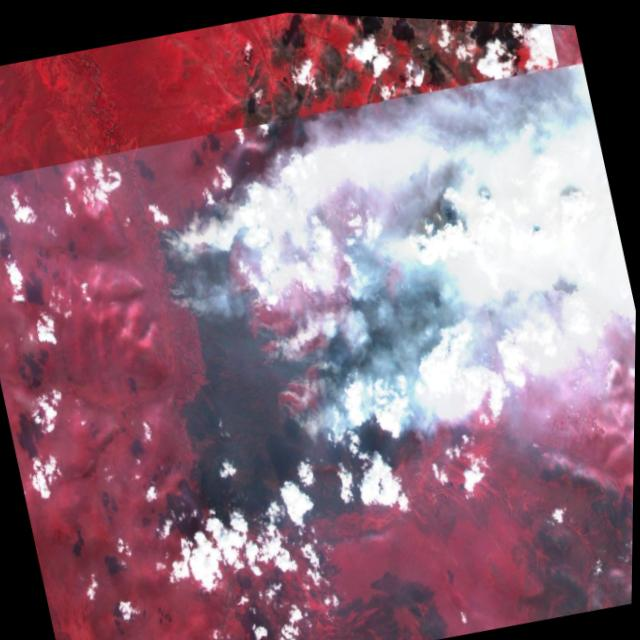fire: (142, 130, 536, 540)
